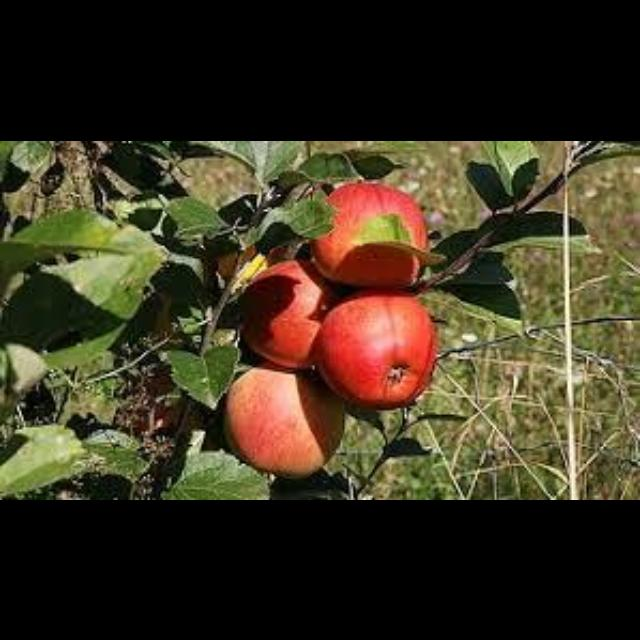apple: (315, 288, 437, 408), (223, 363, 345, 476), (310, 181, 428, 286), (240, 260, 336, 367)
